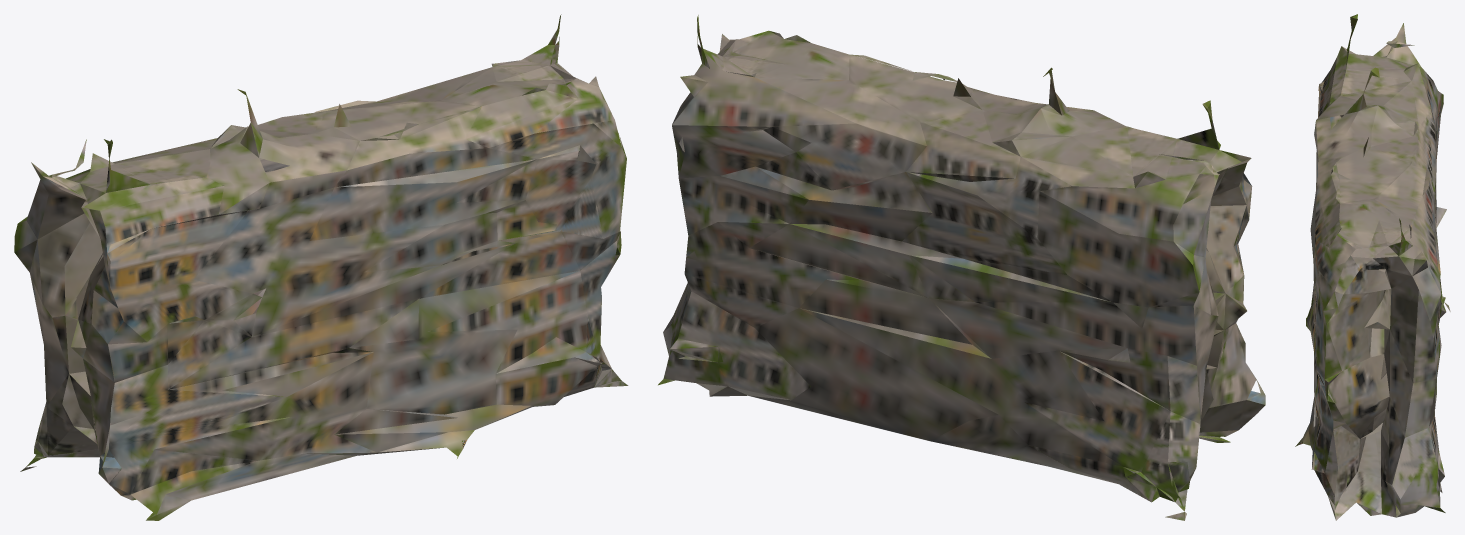
Rendered from cityFlat_lo.glb.
3 renders of one model, left to right at view 1: azimuth 30°, elevation 25°; view 2: azimuth 150°, elevation 25°; view 3: azimuth 270°, elevation 25°, orthographic. The views are drawn at different scales.
Visible parts, largest first — view 1: output_unwrapped; view 2: output_unwrapped; view 3: output_unwrapped.
Part boxes in pixels (box(x1,y1,x2,y2)): output_unwrapped: box(14, 14, 628, 520); output_unwrapped: box(658, 15, 1265, 520); output_unwrapped: box(1295, 14, 1450, 520).
Bounding box in the file's own units: 1.79 × 1.15 × 0.523.
1 material, 1 textured.
